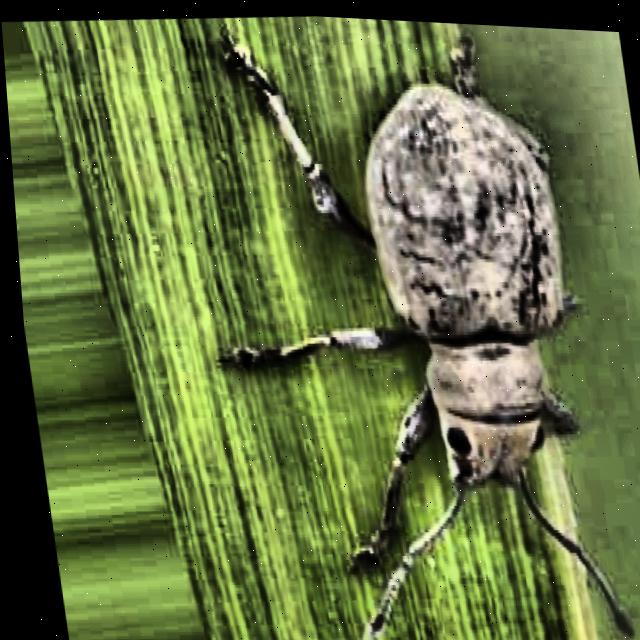Stink bug: (232, 9, 635, 613)
